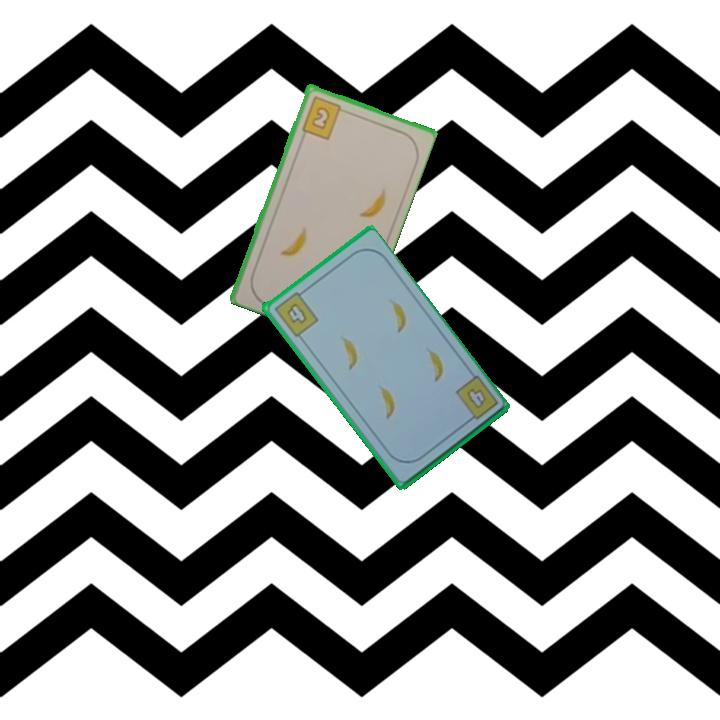2b: (298, 92, 348, 142)
4b: (270, 286, 321, 340), (451, 372, 501, 427)
